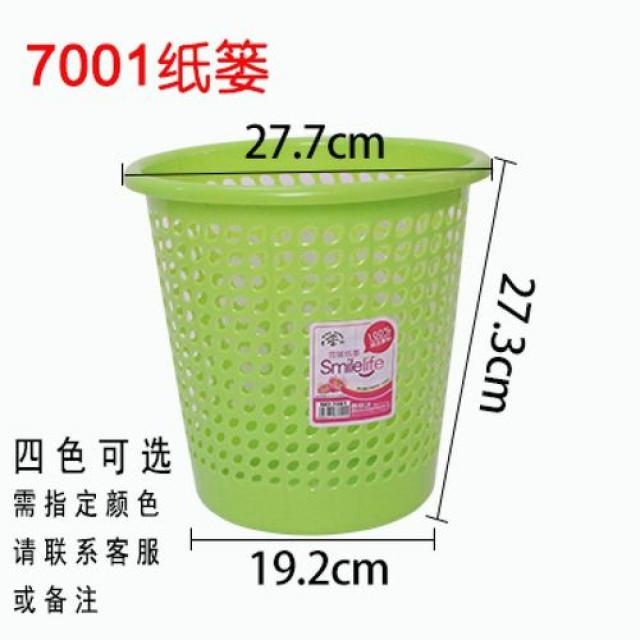Dustbin: (120, 130, 498, 539)
